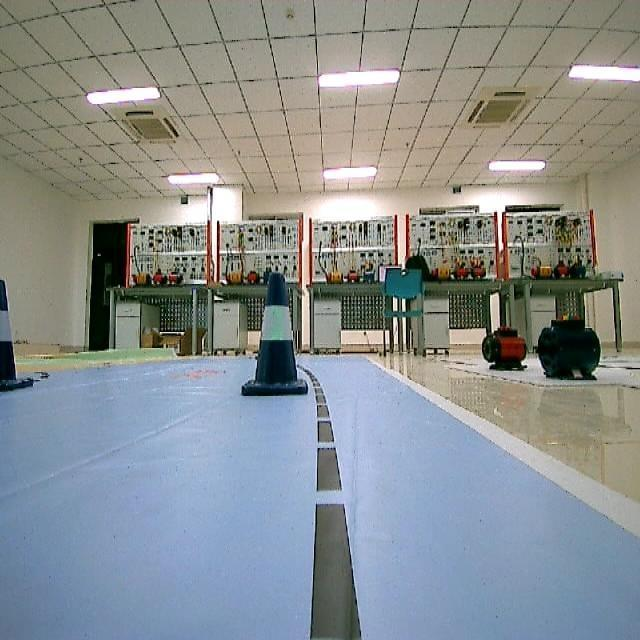obstacle: (238, 264, 309, 402)
